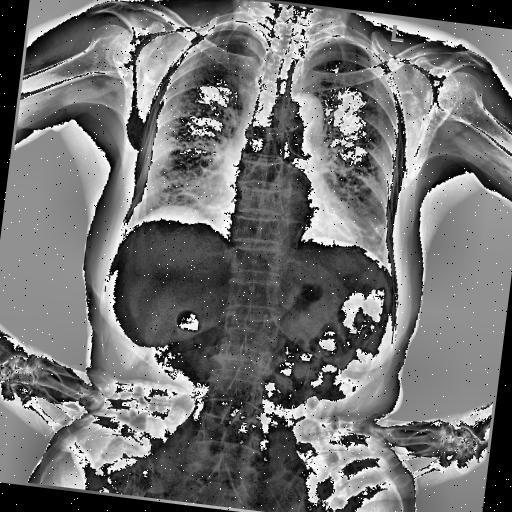0- Aortic enlargement: (276, 89, 328, 139), (279, 90, 327, 140), (277, 90, 327, 138)
11- Pleural thickening: (121, 222, 133, 242)
13- Pulmonary fibrosis: (164, 188, 236, 218), (176, 190, 232, 215), (172, 184, 210, 209)
3- Cardiomegaly: (204, 182, 366, 274), (208, 177, 364, 246), (214, 192, 360, 245)
5- ILD: (142, 60, 236, 221), (322, 64, 406, 230)
7- Lung Opacity: (352, 211, 392, 259)
